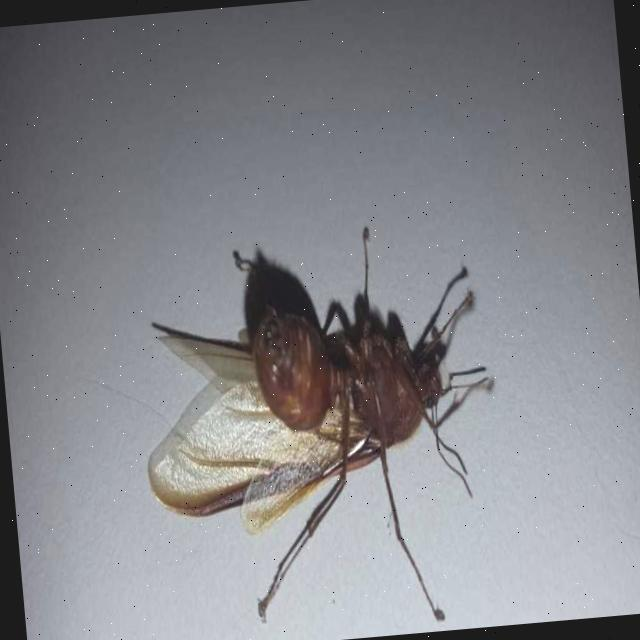Dead-Male-Alate: (127, 214, 508, 640)
